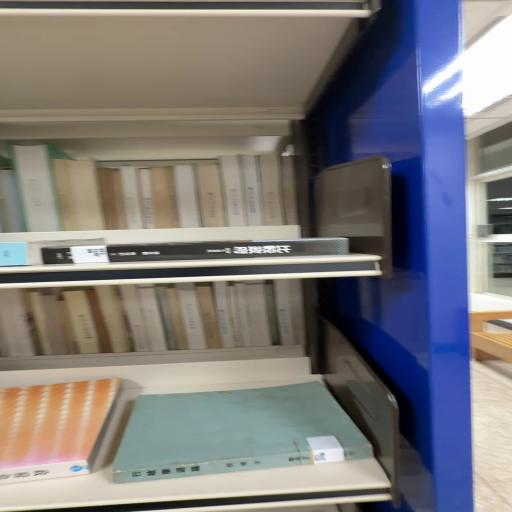flat: (113, 383, 373, 485), (41, 238, 349, 267)
